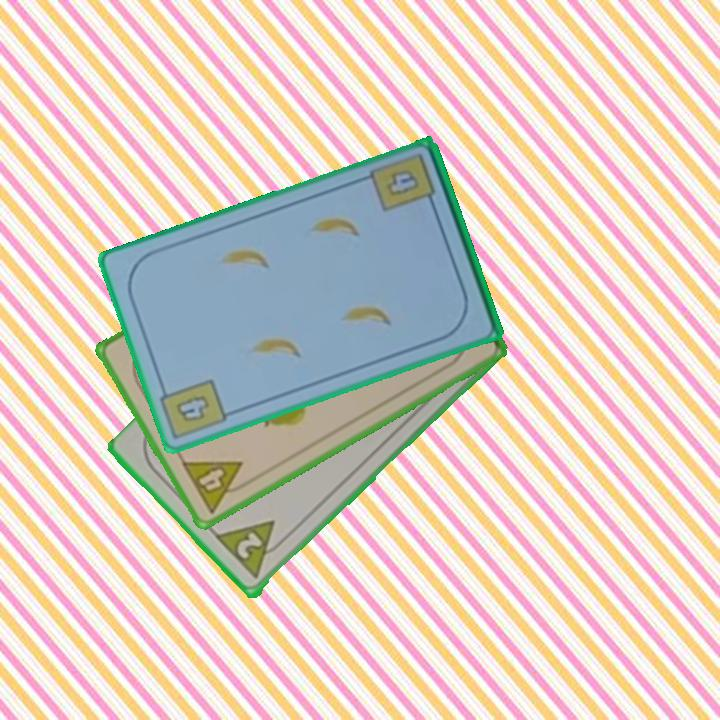2p: (213, 517, 292, 583)
4b: (156, 375, 231, 439), (382, 166, 422, 200)
4p: (177, 457, 256, 516)
